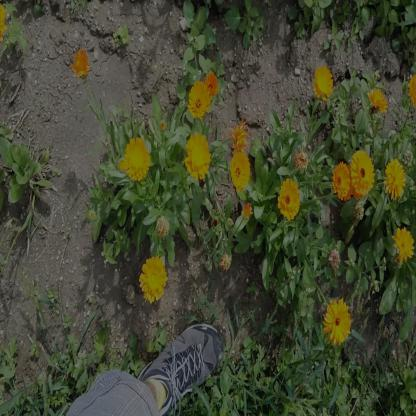marigold: (326, 298, 352, 344), (350, 150, 376, 196), (122, 136, 149, 179), (140, 258, 166, 301), (185, 130, 210, 174), (392, 227, 414, 268), (384, 157, 406, 197), (277, 179, 298, 217), (230, 151, 249, 191), (188, 81, 209, 117), (334, 160, 354, 196), (316, 64, 336, 97), (366, 85, 388, 111), (71, 49, 89, 78), (204, 70, 219, 100)
